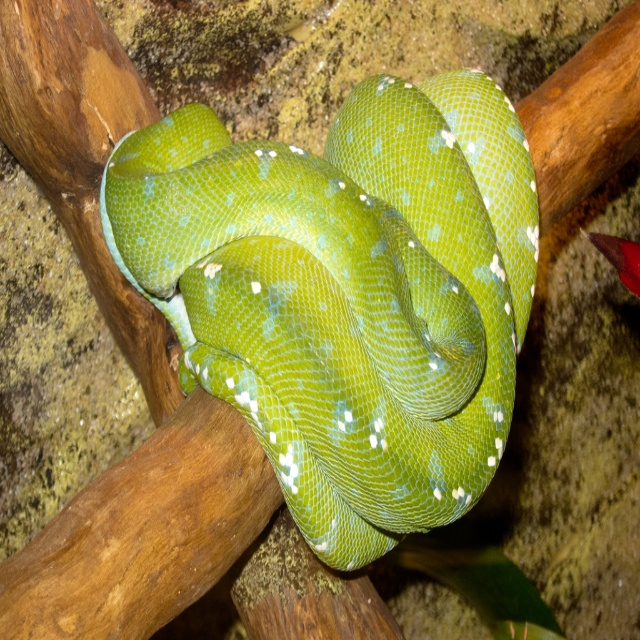Snake: (103, 69, 539, 573)
